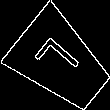L_SE: (33, 34, 89, 90)
